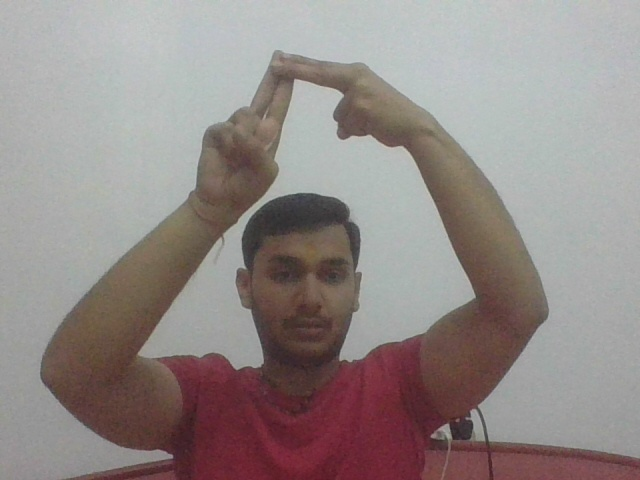F: (196, 46, 413, 193)
